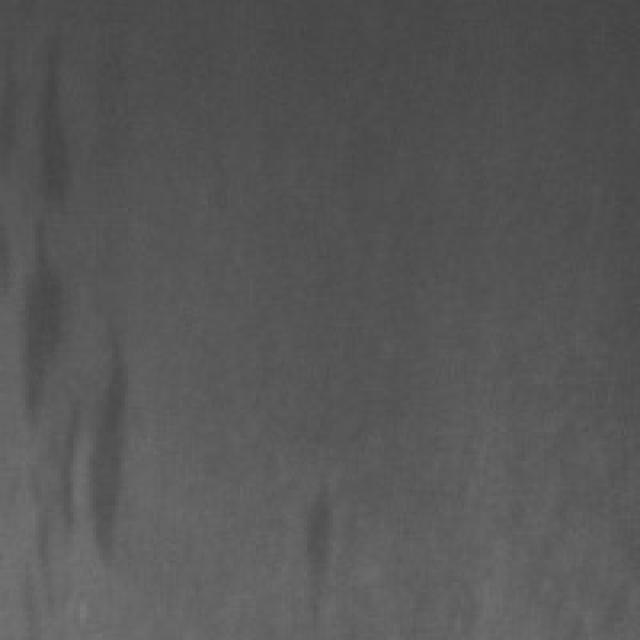inclusion: (3, 26, 131, 598), (288, 477, 365, 618)
